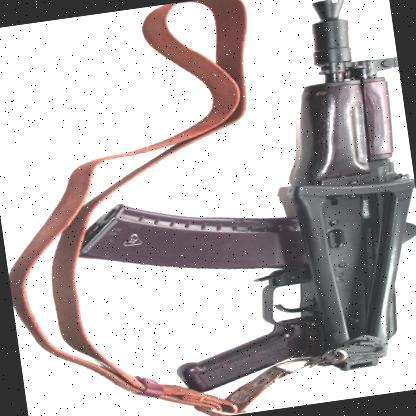rifle: (70, 0, 416, 399)
